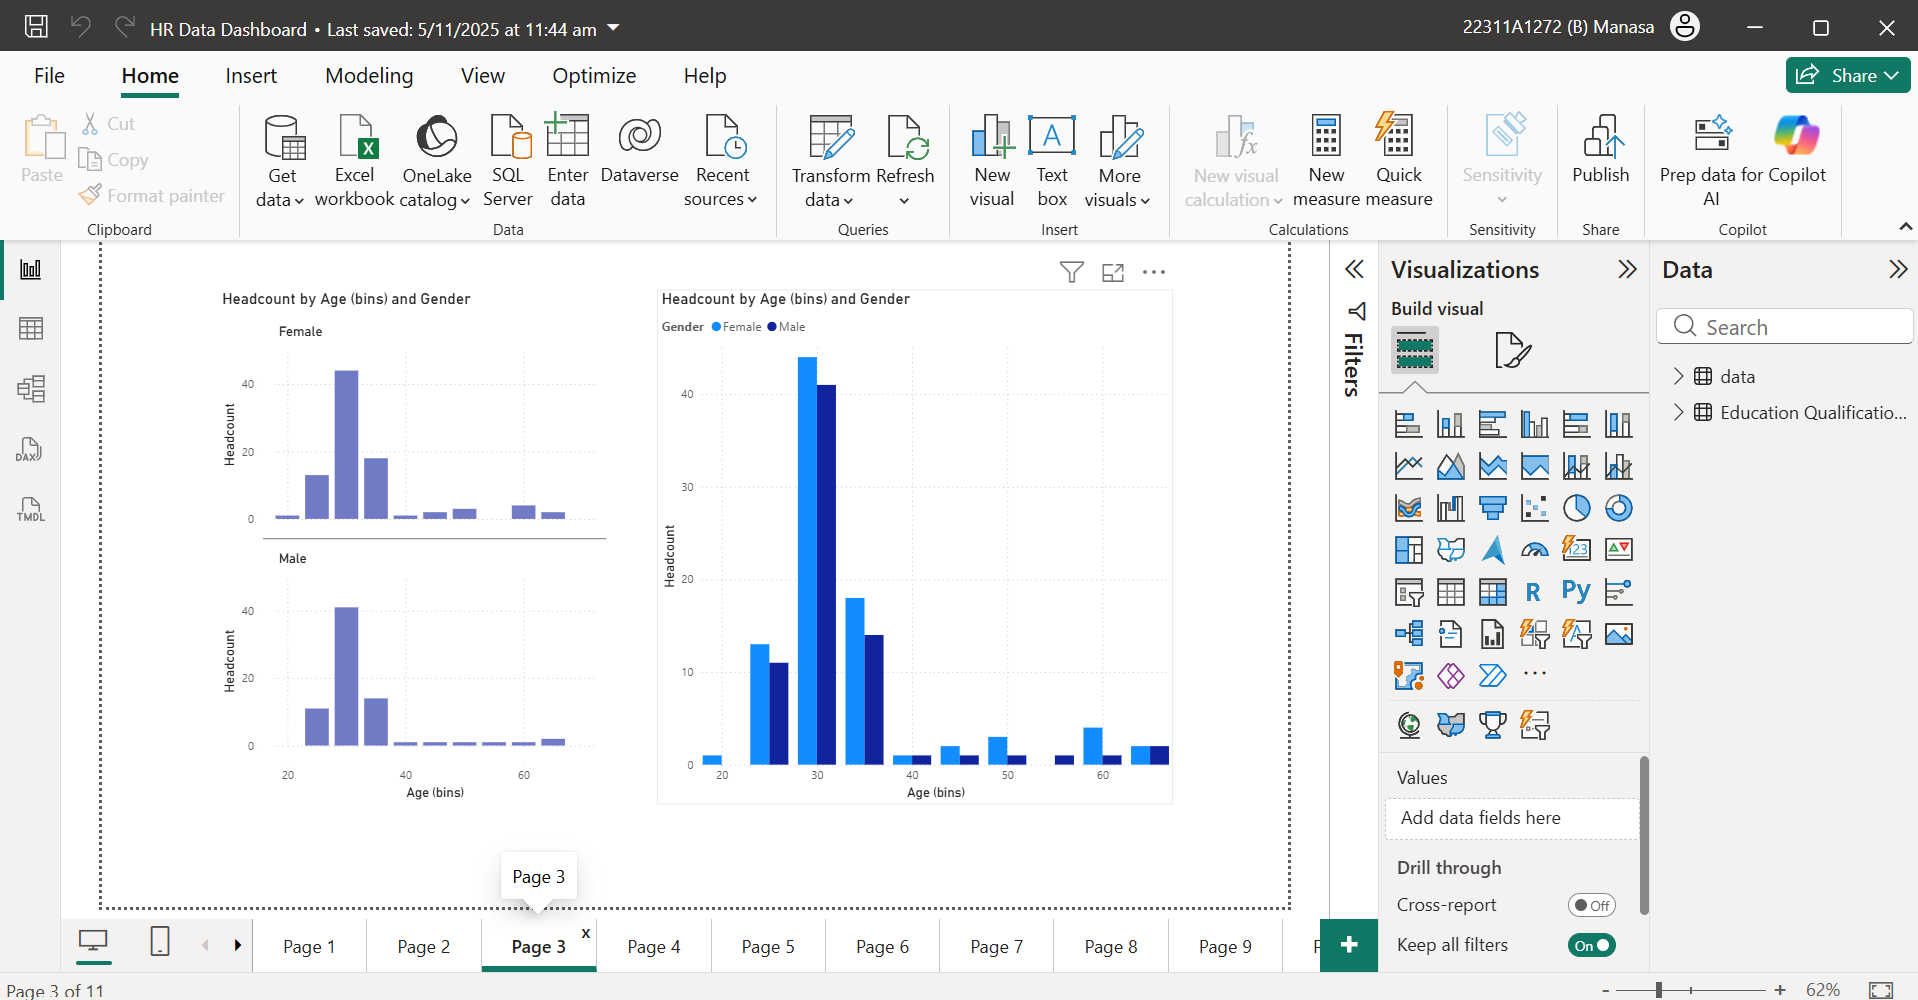

Layout of this report page (visuals, bound fields, positions):
{"tool":"powerbi","page":{"name":"Page 3","canvas":[1280,720],"ordinal":2},"visuals":[{"type":"clusteredColumnChart","fields":{"Category":["data.Age (bins)"],"Y":["data.Headcount"],"Rows":["data.Gender"]},"box":[124.7,52.9,425.2,555.6],"z":0},{"type":"clusteredColumnChart","fields":{"Category":["data.Age (bins)"],"Y":["data.Headcount"],"Series":["data.Gender"]},"box":[599.1,52.9,557.5,555.6],"z":1000}]}

Visuals, with their boxes on the page's 1280x720 design canvas (x1, y1, x2, y2). These are canvas units, not pixel positions in the 1918x1000 screenshot, which may show the page scaled, cropped or inside an application window:
clusteredColumnChart - data.Age (bins) x data.Headcount: l=125, t=53, r=550, b=608
clusteredColumnChart - data.Age (bins) x data.Headcount: l=599, t=53, r=1157, b=608
